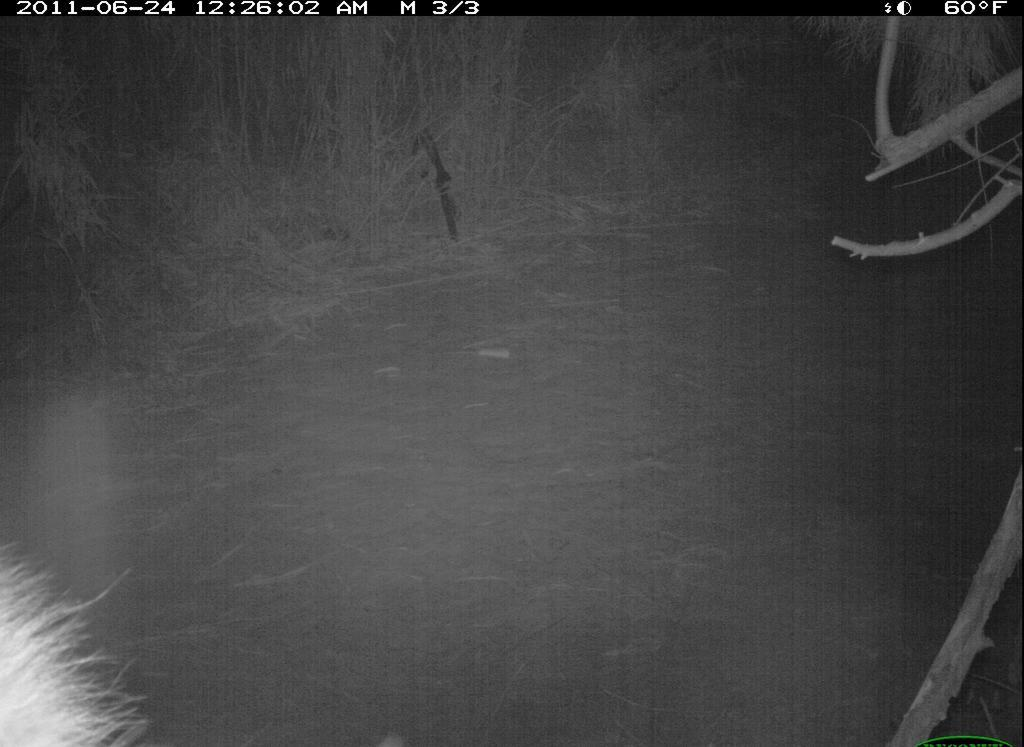raccoon: (5, 537, 161, 747)
